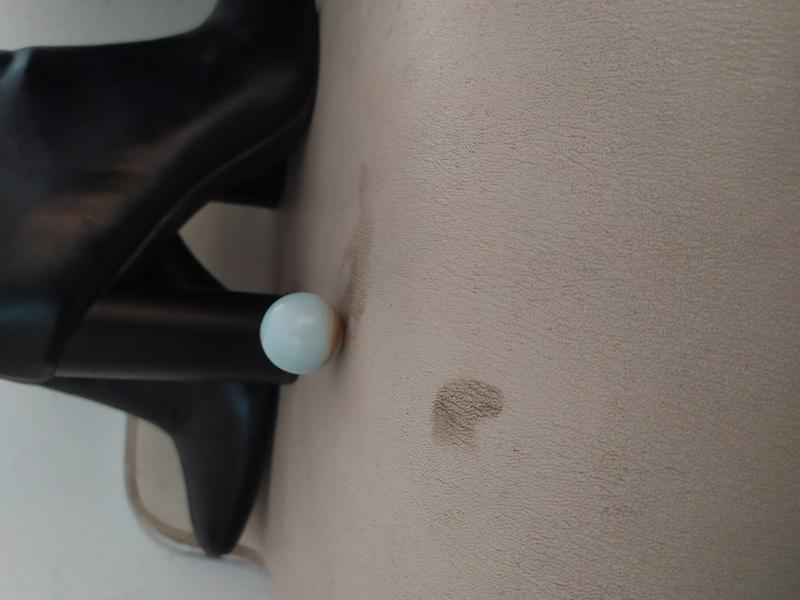Warning: (257, 290, 347, 377)
